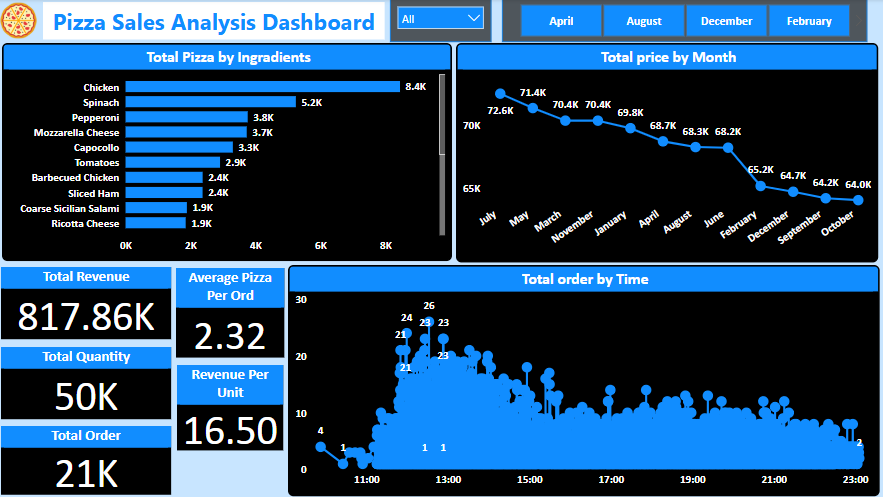

The page's visual inventory and layout, read from the dashboard file:
{"tool":"powerbi","page":{"name":"Page 2","canvas":[1280,720],"ordinal":1},"visuals":[{"type":"lineChart","title":"Total price by Month","fields":{"Category":["Pizza_Analysis.date"],"Y":["Measure Table.Total Revenue"]},"box":[663.5,63.8,608.1,315.8],"z":0},{"type":"lineChart","title":"Total order by Time","fields":{"Category":["Pizza_Analysis.time"],"Y":["CountNonNull(Pizza_Analysis.order_id)"]},"box":[421.6,383,851.7,332.6],"z":1000},{"type":"clusteredBarChart","title":"Total Pizza by Ingradients","fields":{"Category":["Pizza_Analysis.ingredients.1"],"Y":["CountNonNull(Pizza_Analysis.ingredients.1)"]},"box":[10.1,63.8,648.4,314.1],"z":2000},{"type":"card","title":"Total Revenue","fields":{"Values":["Measure Table.Total Revenue"]},"box":[8.4,386.4,245.2,104.1],"z":3000},{"type":"card","title":"Total Quantity","fields":{"Values":["Sum(Pizza_Analysis.quantity)"]},"box":[8.4,500.6,245.2,104.1],"z":4000},{"type":"slicer","fields":{"Values":["Pizza_Analysis.category"]},"box":[569.4,0,146.1,62.2],"z":5000},{"type":"textbox","box":[68.9,5,492.2,53.8],"z":6000},{"type":"image","box":[3.4,0,62.2,62.2],"z":7000},{"type":"slicer","fields":{"Values":["Pizza_Analysis.date"]},"box":[730.7,0,525.8,62.2],"z":8000},{"type":"card","title":"Total Order","fields":{"Values":["Measure Table.Total Orders"]},"box":[8.4,614.8,245.2,99.1],"z":9000},{"type":"card","title":"Average Pizza Per Ord","fields":{"Values":["Measure Table.Avg Pizzas per Order"]},"box":[260.4,388,156.2,129.3],"z":10000},{"type":"card","title":"Revenue Per Unit","fields":{"Values":["Measure Table.Revenue per Unit"]},"box":[262,527.5,152.9,122.6],"z":11000}]}

Visuals, with their boxes in screenshot pixels (x1, y1, x2, y2), scaled from the page's 1280x720 canvas onto the 883x497 screenshot:
"Total price by Month" lineChart: bbox=[458, 44, 877, 262]
"Total order by Time" lineChart: bbox=[291, 264, 878, 494]
"Total Pizza by Ingradients" clusteredBarChart: bbox=[7, 44, 454, 261]
"Total Revenue" card: bbox=[6, 267, 175, 339]
"Total Quantity" card: bbox=[6, 346, 175, 417]
slicer - Pizza_Analysis.category: bbox=[393, 0, 494, 43]
textbox: bbox=[48, 3, 387, 41]
image: bbox=[2, 0, 45, 43]
slicer - Pizza_Analysis.date: bbox=[504, 0, 867, 43]
"Total Order" card: bbox=[6, 424, 175, 493]
"Average Pizza Per Ord" card: bbox=[180, 268, 287, 357]
"Revenue Per Unit" card: bbox=[181, 364, 286, 449]
